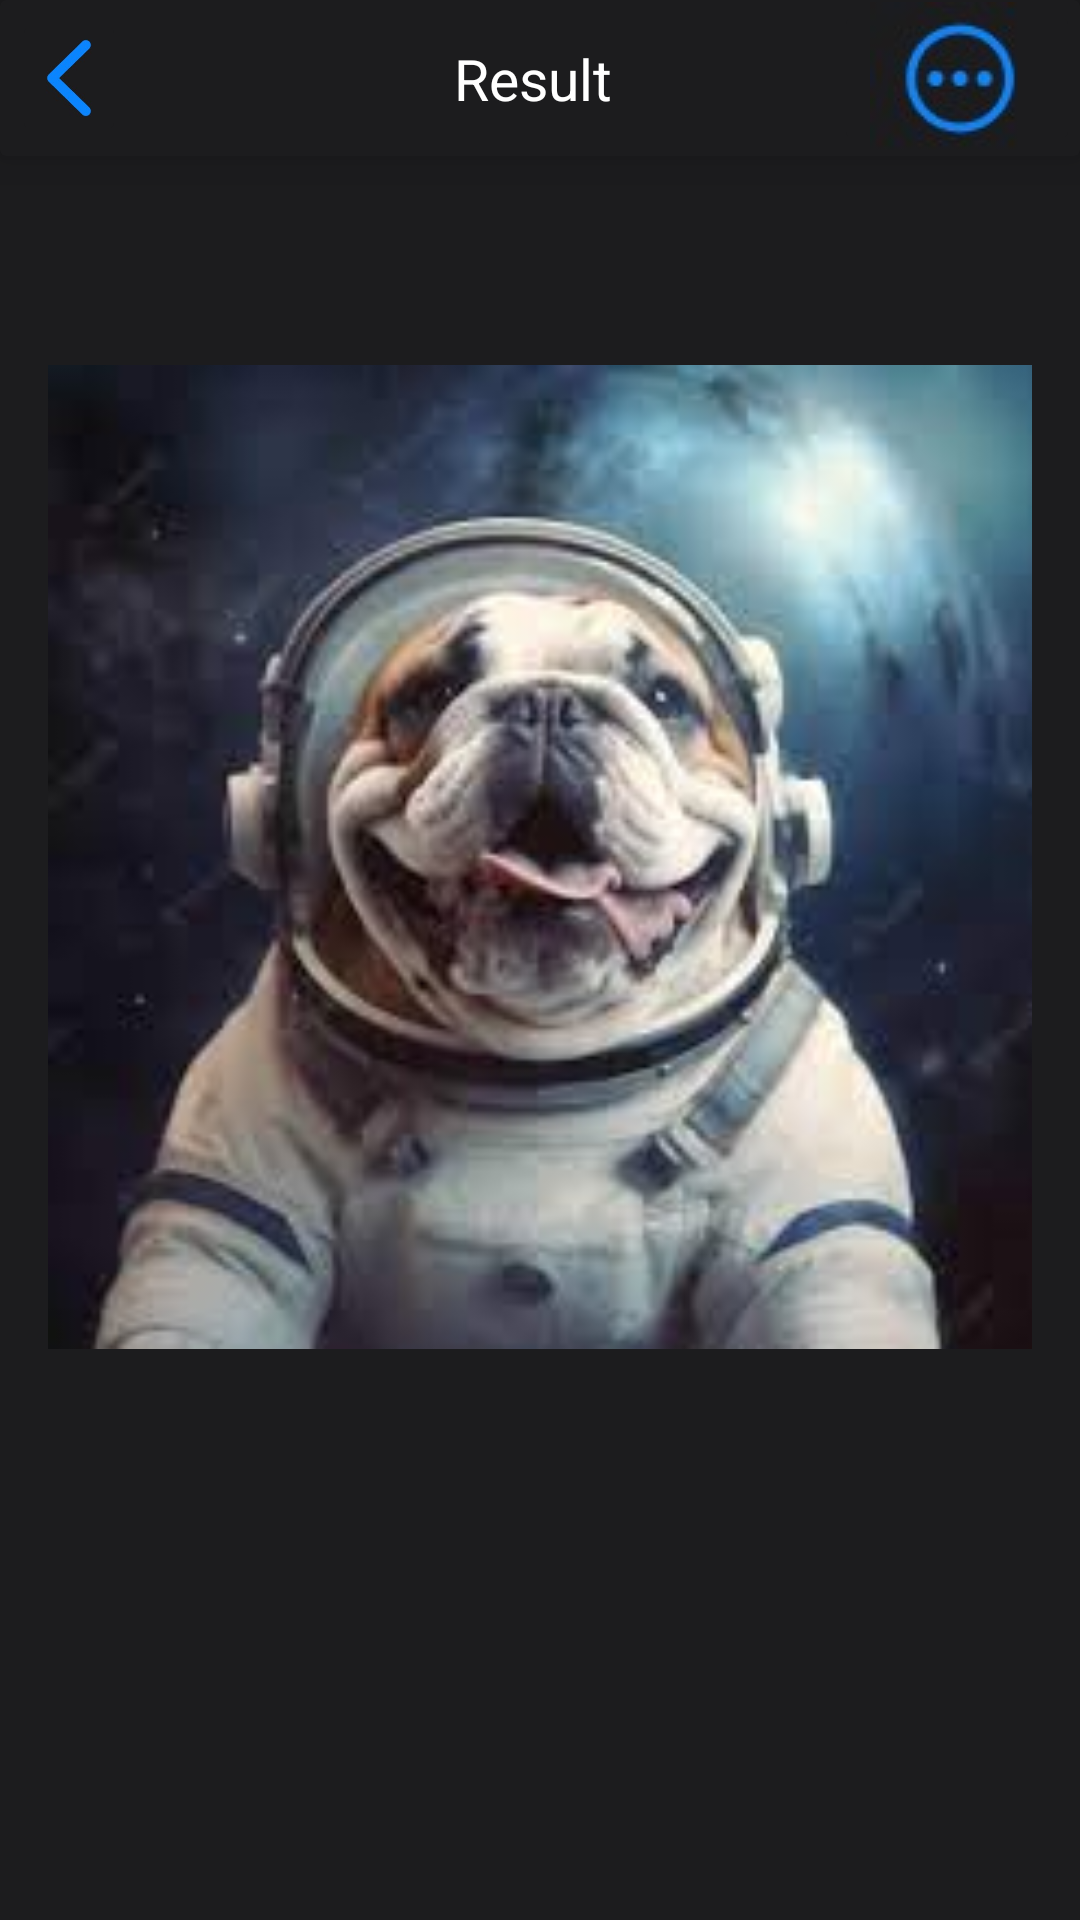

Screen size 1080*1920. Icon name, then its box in pixels as (x1, y1, x2, y2):
back to chose style: (47, 40, 91, 117)
more: (903, 22, 1016, 136)
